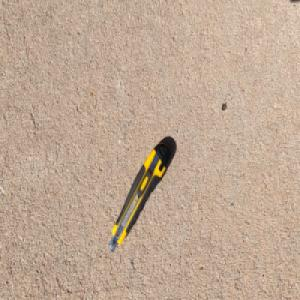Cutter: (107, 140, 172, 255)
